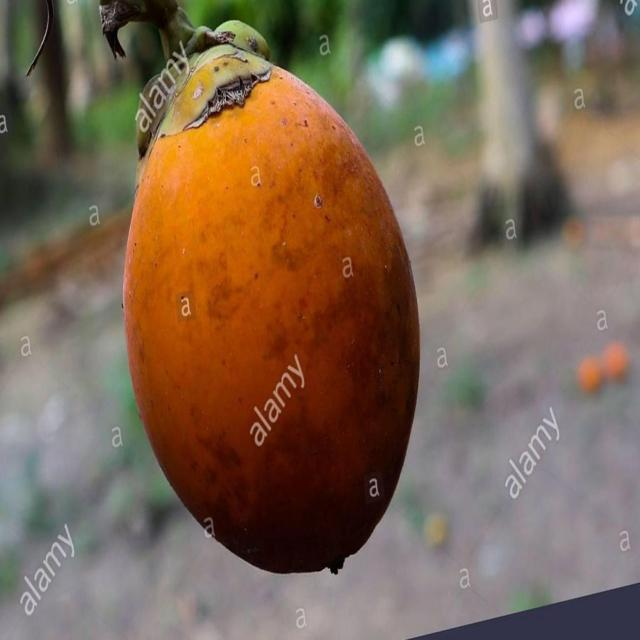good: (101, 0, 421, 577)
